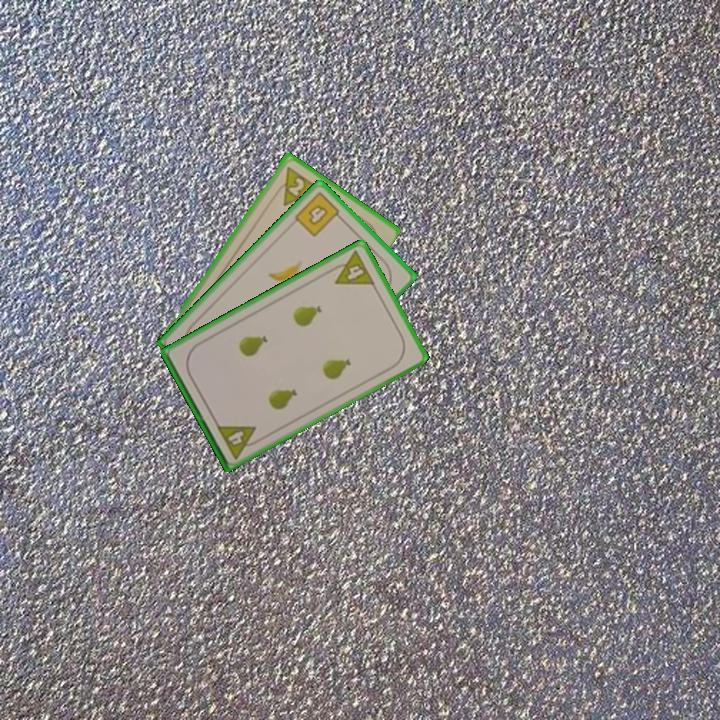2p: (285, 174, 307, 198)
4b: (291, 188, 346, 240)
4p: (325, 247, 378, 288), (213, 421, 264, 462)
